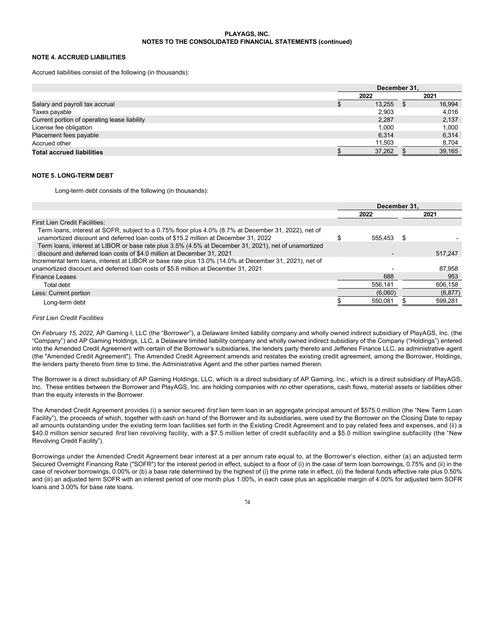box: (30, 200, 465, 311), (29, 80, 463, 159)
